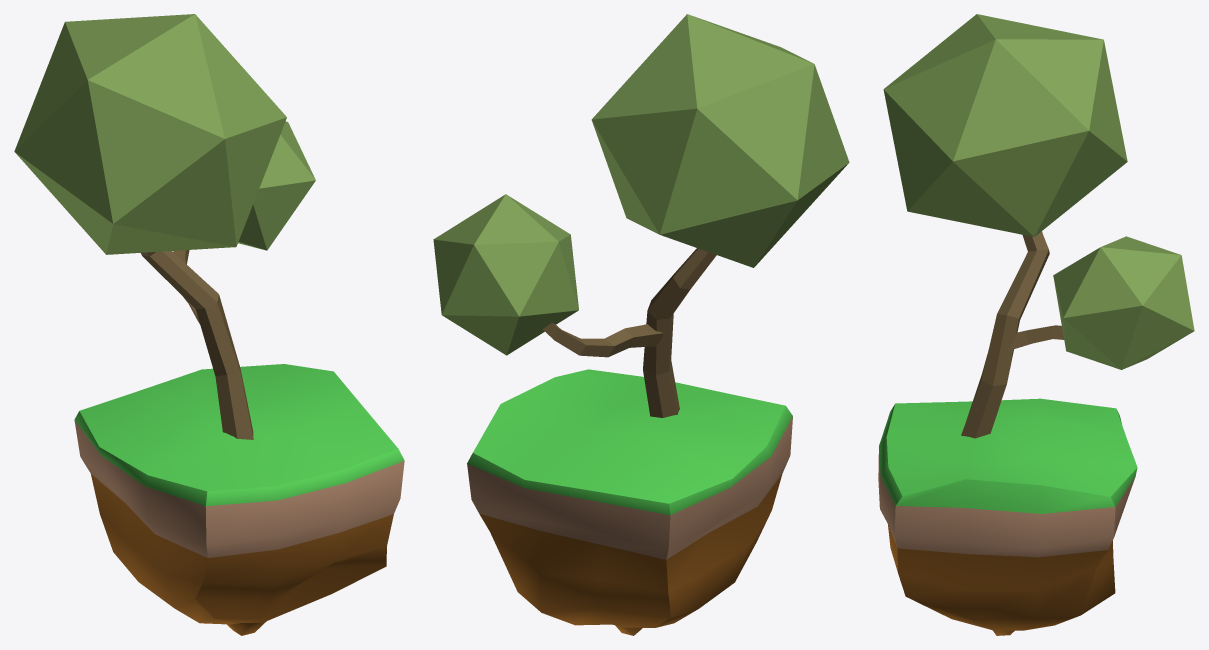
The model's file is Plant_Begin_HowPlant.fbx.
3 renders of one model, left to right at view 1: azimuth 30°, elevation 25°; view 2: azimuth 150°, elevation 25°; view 3: azimuth 270°, elevation 25°, orthographic. The views are drawn at different scales.
Visible parts, largest first — view 1: Soil2:Ground1, Soil2:Lowpoly_tree_sample:Default; view 2: Soil2:Lowpoly_tree_sample:Default, Soil2:Ground1; view 3: Soil2:Lowpoly_tree_sample:Default, Soil2:Ground1.
Part boxes in pixels (left/top/right/bottom): Soil2:Ground1: left=74, top=364, right=404, bottom=635; Soil2:Lowpoly_tree_sample:Default: left=14, top=14, right=315, bottom=439; Soil2:Lowpoly_tree_sample:Default: left=433, top=14, right=849, bottom=417; Soil2:Ground1: left=467, top=369, right=792, bottom=635; Soil2:Lowpoly_tree_sample:Default: left=883, top=14, right=1194, bottom=438; Soil2:Ground1: left=878, top=398, right=1137, bottom=635.
Size of the model in its own units: 2.06 by 3.89 by 1.96.
